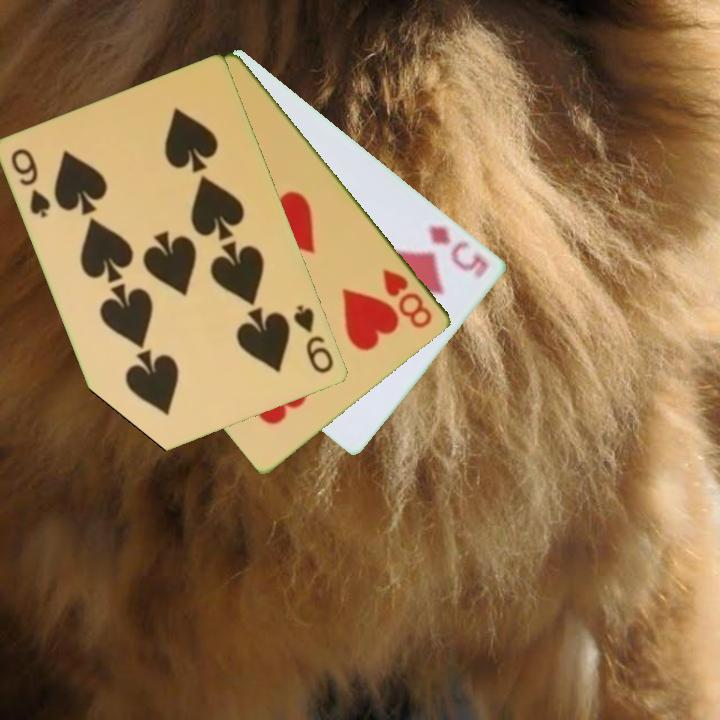5d: (425, 221, 493, 282)
8h: (379, 265, 436, 332)
9s: (290, 301, 337, 377), (8, 145, 54, 221)
